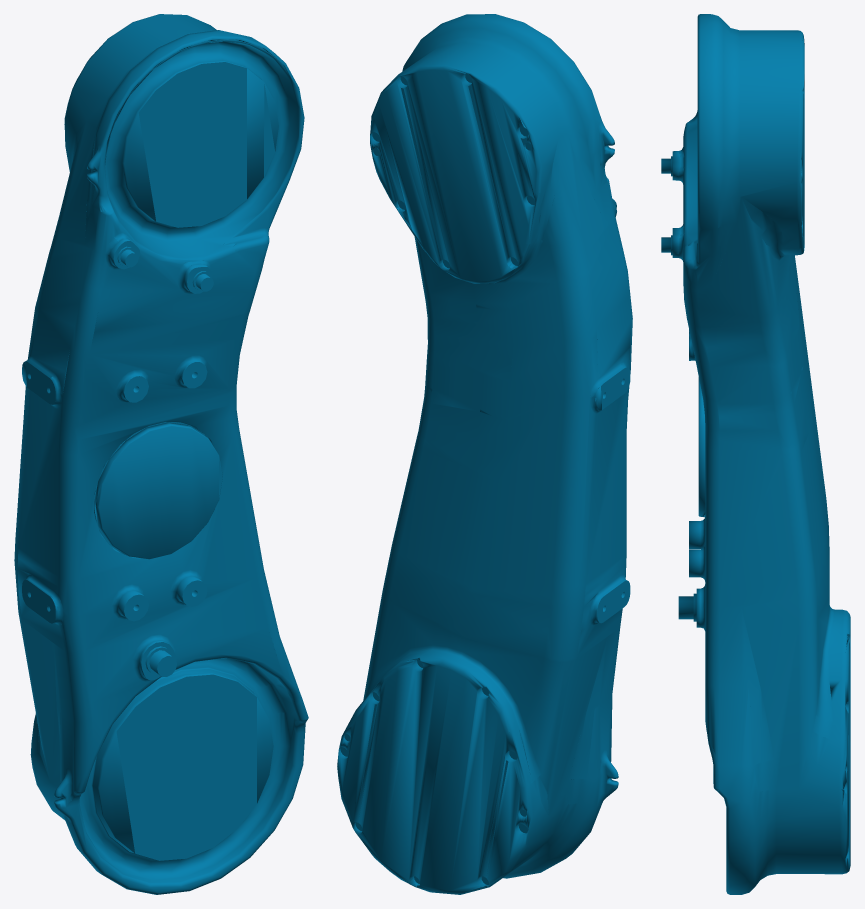
3 views of the same model, side by side, from view 1: azimuth 30°, elevation 25°; view 2: azimuth 150°, elevation 25°; view 3: azimuth 270°, elevation 25° (orthographic). The views are drawn at different scales.
Visible parts, largest first — view 1: mesh_shell_11__LOD_0_.002; view 2: mesh_shell_11__LOD_0_.002; view 3: mesh_shell_11__LOD_0_.002.
Boxes of the visible parts, bbox=[...] form: mesh_shell_11__LOD_0_.002: bbox=[14, 14, 308, 894]; mesh_shell_11__LOD_0_.002: bbox=[337, 14, 632, 894]; mesh_shell_11__LOD_0_.002: bbox=[661, 14, 850, 894].
Size of the model in its own units: 0.3066 by 0.198 by 0.9898.
